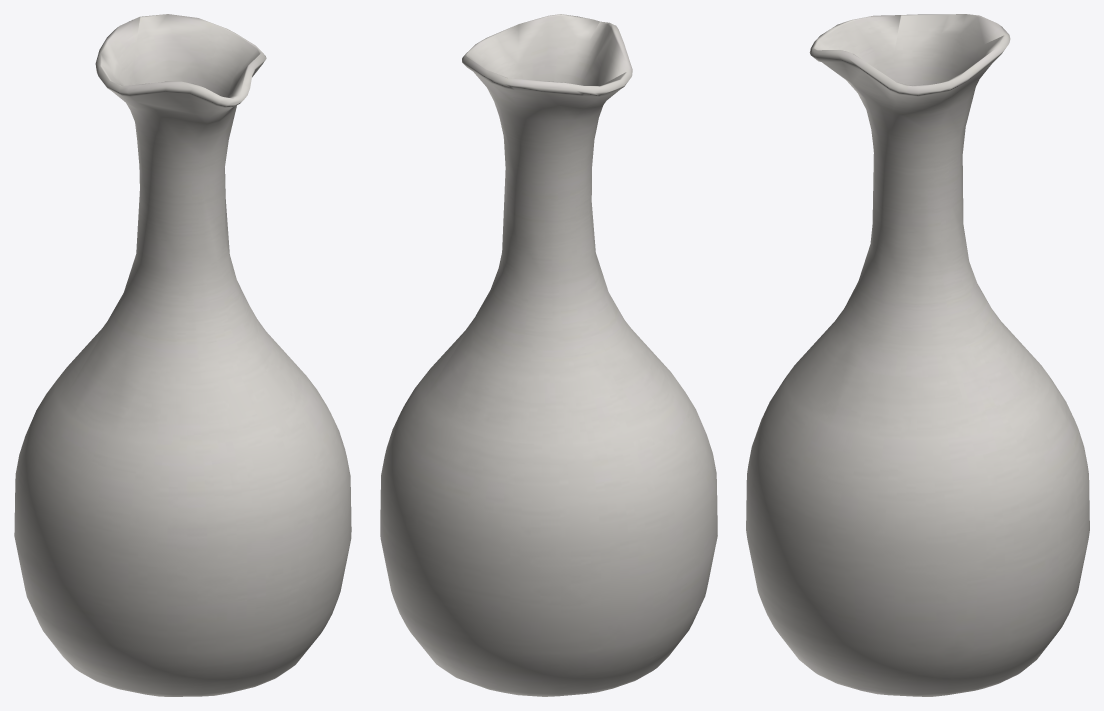
The model's file is ceramic_vase_01.glb.
3 views of the same model, side by side, from view 1: azimuth 30°, elevation 25°; view 2: azimuth 150°, elevation 25°; view 3: azimuth 270°, elevation 25° (orthographic).
Parts seen in each view (by area): view 1: ceramic_vase_01; view 2: ceramic_vase_01; view 3: ceramic_vase_01.
Boxes of the visible parts, box(x1,y1,x2,y2) form: ceramic_vase_01: box(14, 14, 351, 696); ceramic_vase_01: box(380, 14, 717, 696); ceramic_vase_01: box(746, 14, 1089, 696).
Size of the model in its own units: 0.2025 by 0.4002 by 0.2025.
Materials: 1 (1 with a texture image).
